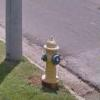Hydrant: (31, 26, 68, 90)
